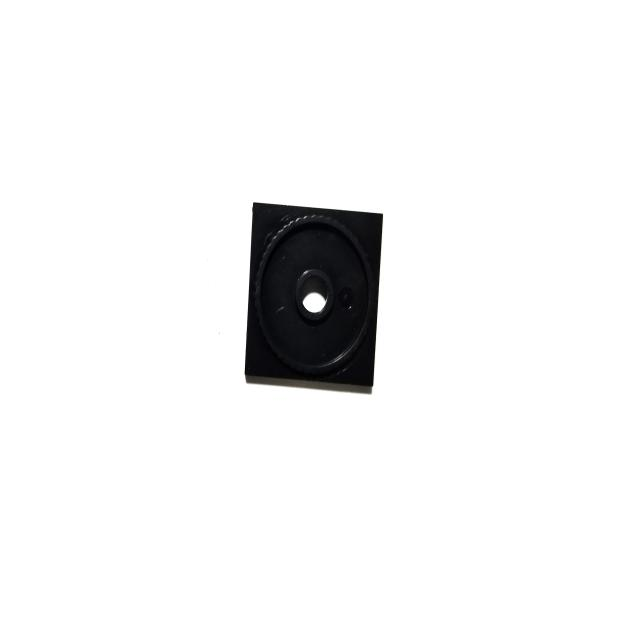Black_Medium: (244, 202, 384, 393)
